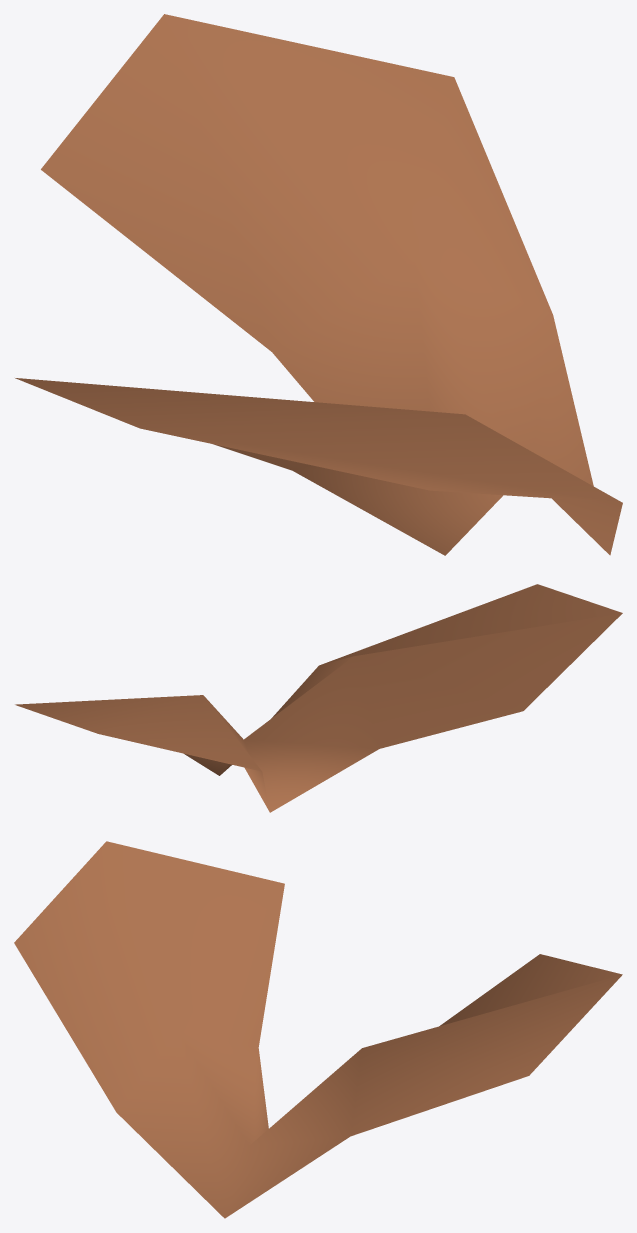
The model's file is GrassDetail.fbx.
The picture shows the model from 3 angles, top to bottom: view 1: azimuth 30°, elevation 25°; view 2: azimuth 150°, elevation 25°; view 3: azimuth 270°, elevation 25°; orthographic projection. The views are drawn at different scales.
Parts seen in each view (by area): view 1: grass_detail; view 2: grass_detail; view 3: grass_detail.
Boxes of the visible parts, x1,y1,x2,y2 form: grass_detail: (15, 14, 622, 555); grass_detail: (15, 584, 622, 812); grass_detail: (14, 841, 622, 1218).
Bounding box in the file's own units: 0.2299 × 0.1122 × 0.2991.
